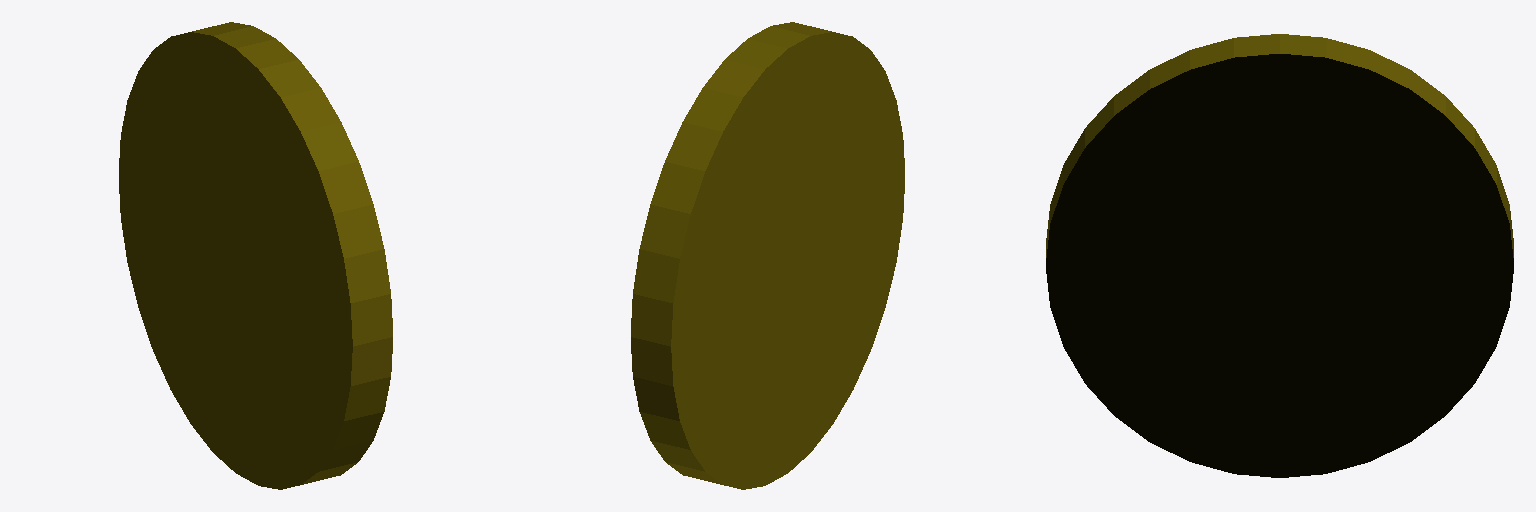
The model's file is coin2.obj.
The picture shows the model from 3 angles: view 1: azimuth 30°, elevation 25°; view 2: azimuth 150°, elevation 25°; view 3: azimuth 270°, elevation 25°; orthographic projection.
Parts seen in each view (by area): view 1: coin1_Cylinder; view 2: coin1_Cylinder; view 3: coin2_Cylinder.001, coin1_Cylinder.
Boxes of the visible parts, x1,y1,x2,y2 form: coin1_Cylinder: [119, 22, 392, 489]; coin1_Cylinder: [631, 22, 904, 489]; coin2_Cylinder.001: [1046, 54, 1513, 477]; coin1_Cylinder: [1046, 34, 1513, 257].
Size of the model in its own units: 0.2 by 2 by 2.